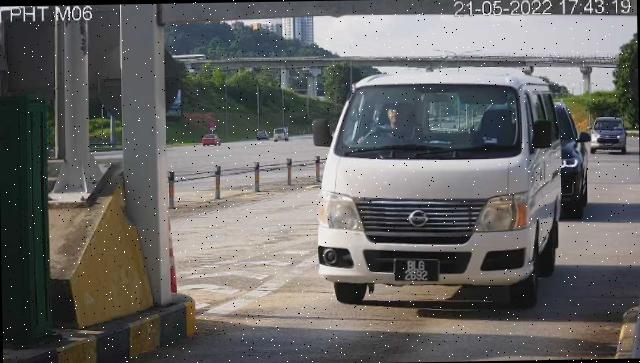License_Plate: (394, 258, 444, 286)
van: (316, 69, 565, 314)
